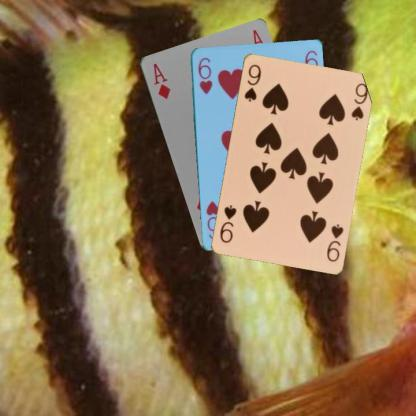6h: (195, 55, 213, 95)
9s: (323, 221, 345, 263), (241, 61, 262, 103)
Ad: (150, 60, 172, 101)
